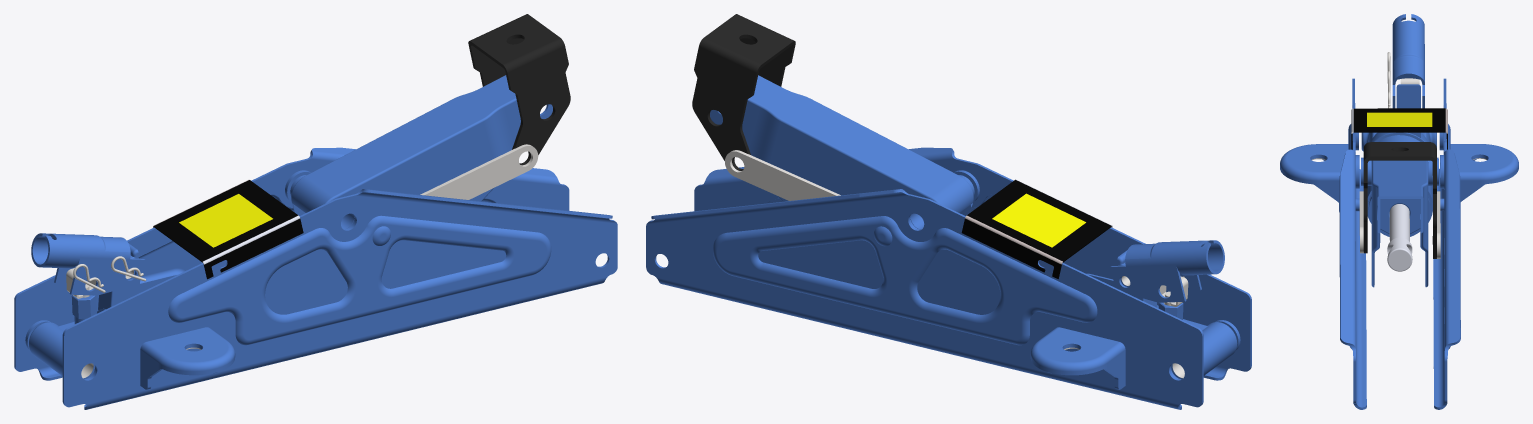
File: Update07.glb
The picture shows the model from 3 angles, left to right: view 1: azimuth 30°, elevation 25°; view 2: azimuth 150°, elevation 25°; view 3: azimuth 270°, elevation 25°; orthographic projection. The views are drawn at different scales.
Parts seen in each view (by area): view 1: Update07; view 2: Update07; view 3: Update07.
Part boxes in pixels (x1=…): Update07: x1=14, y1=14, x2=617, y2=409; Update07: x1=646, y1=14, x2=1251, y2=409; Update07: x1=1280, y1=14, x2=1518, y2=409.
Size of the model in its own units: 0.4501 by 0.1946 by 0.1778.
